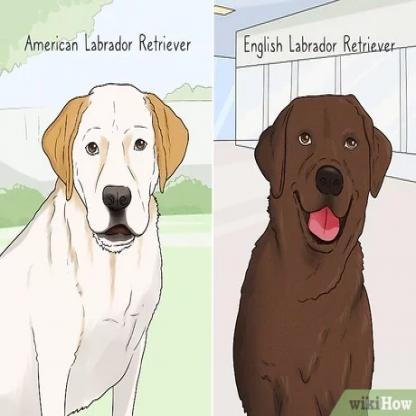Labarador Retriever: (0, 81, 190, 416), (231, 94, 388, 416)
